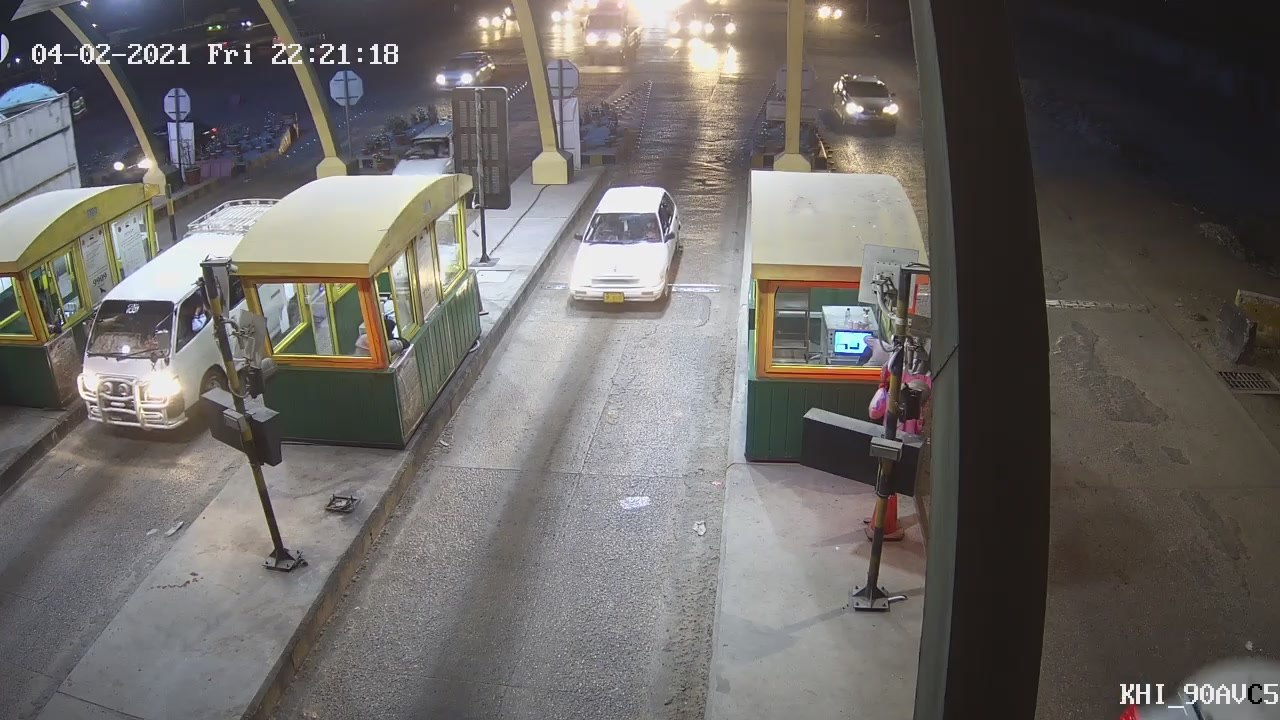F1: (561, 185, 687, 315)
